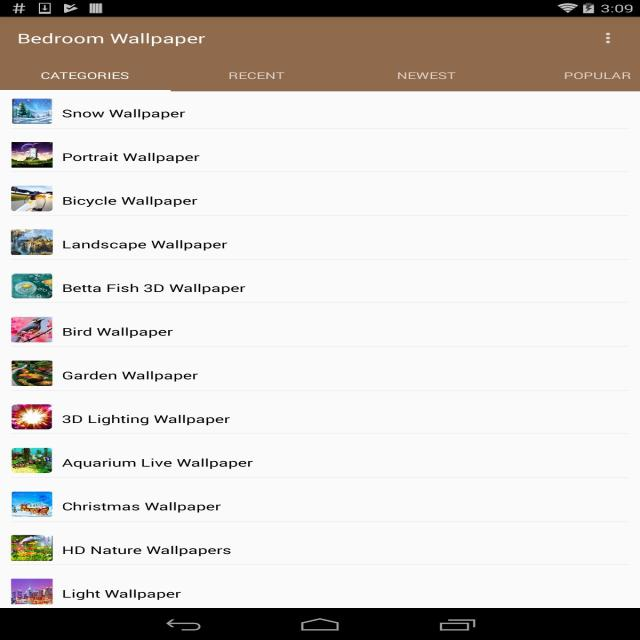button: (8, 62, 170, 90), (361, 62, 483, 90), (201, 63, 308, 91), (548, 60, 639, 90), (598, 28, 620, 48)
heading: (14, 31, 212, 49)
image: (12, 229, 54, 256), (12, 140, 52, 168), (13, 491, 54, 518), (10, 317, 53, 341), (11, 361, 52, 386), (13, 184, 52, 210), (11, 274, 53, 298), (12, 579, 52, 604), (12, 535, 50, 561), (12, 448, 52, 472), (13, 98, 50, 123), (13, 404, 50, 428)
text: (60, 543, 235, 560), (60, 456, 256, 471), (60, 412, 230, 428), (61, 282, 248, 296), (61, 498, 223, 514), (61, 150, 202, 164), (62, 194, 202, 208), (60, 587, 185, 602), (61, 239, 228, 250), (62, 107, 185, 121), (60, 370, 199, 382), (62, 326, 176, 339)
